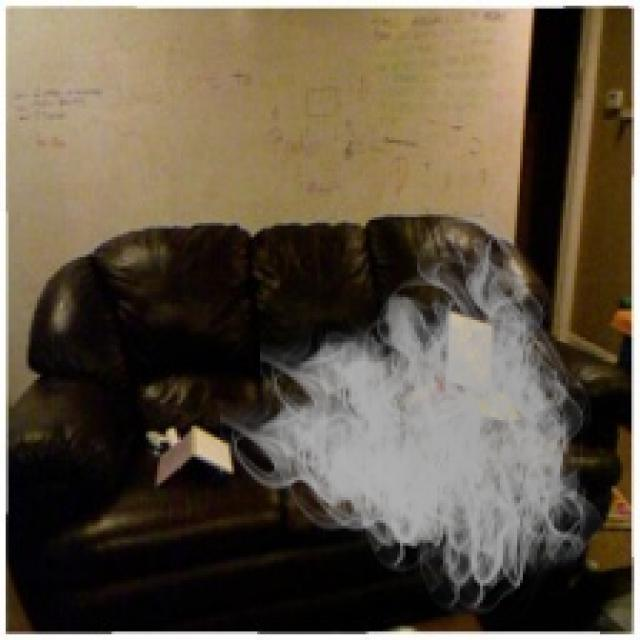Smoke: (219, 200, 612, 626)
